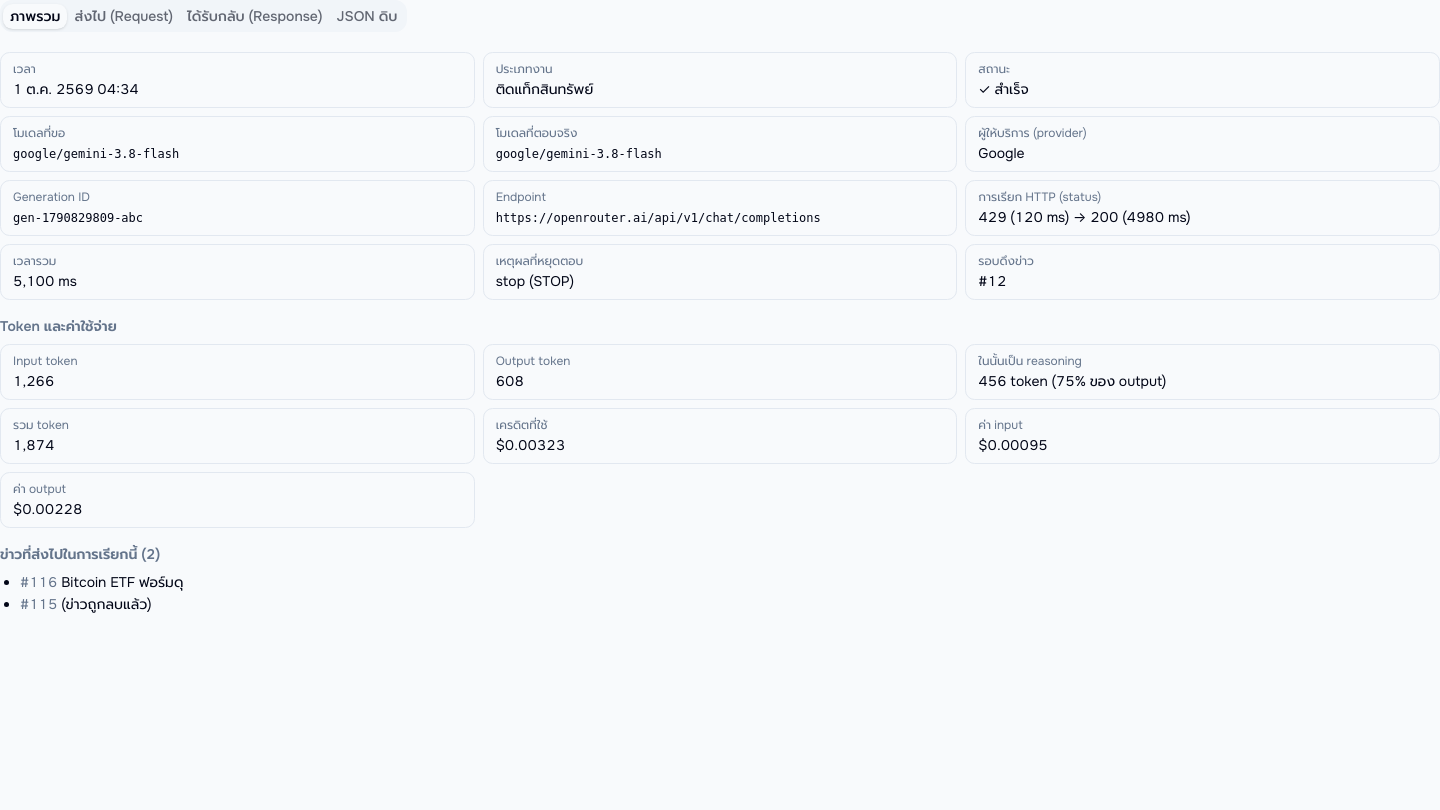
PromptLogView (detailed) › raw tab: full request and response bodies
Click the tab "JSON ดิบ" at (367, 16), box [329,4,404,28]
(page scrolled)
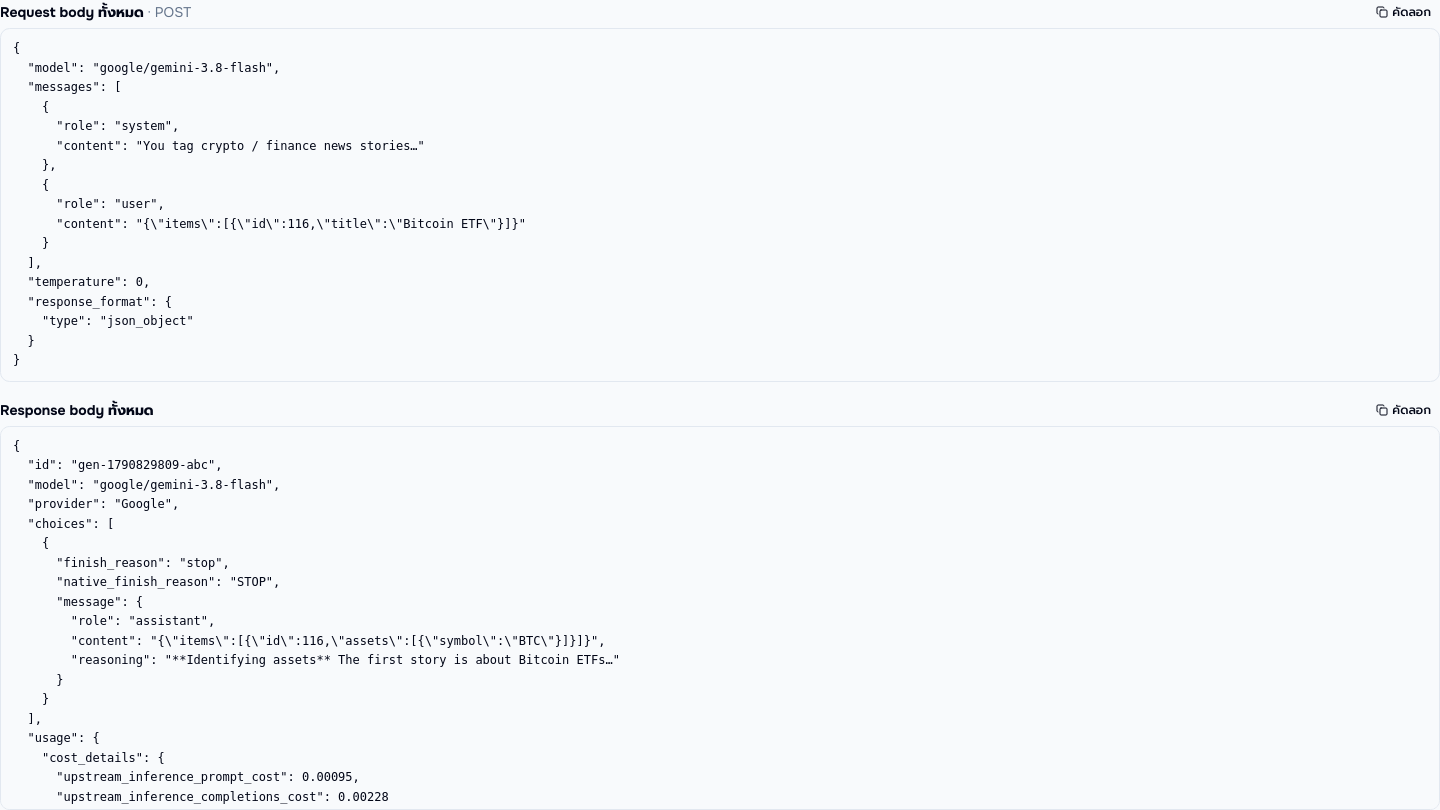
Check: the text "Request body ทั้งหมด" is shown, box [0,3,144,21]
Check: the text "\"response_format\": {" is shown, box [13,41,526,367]
